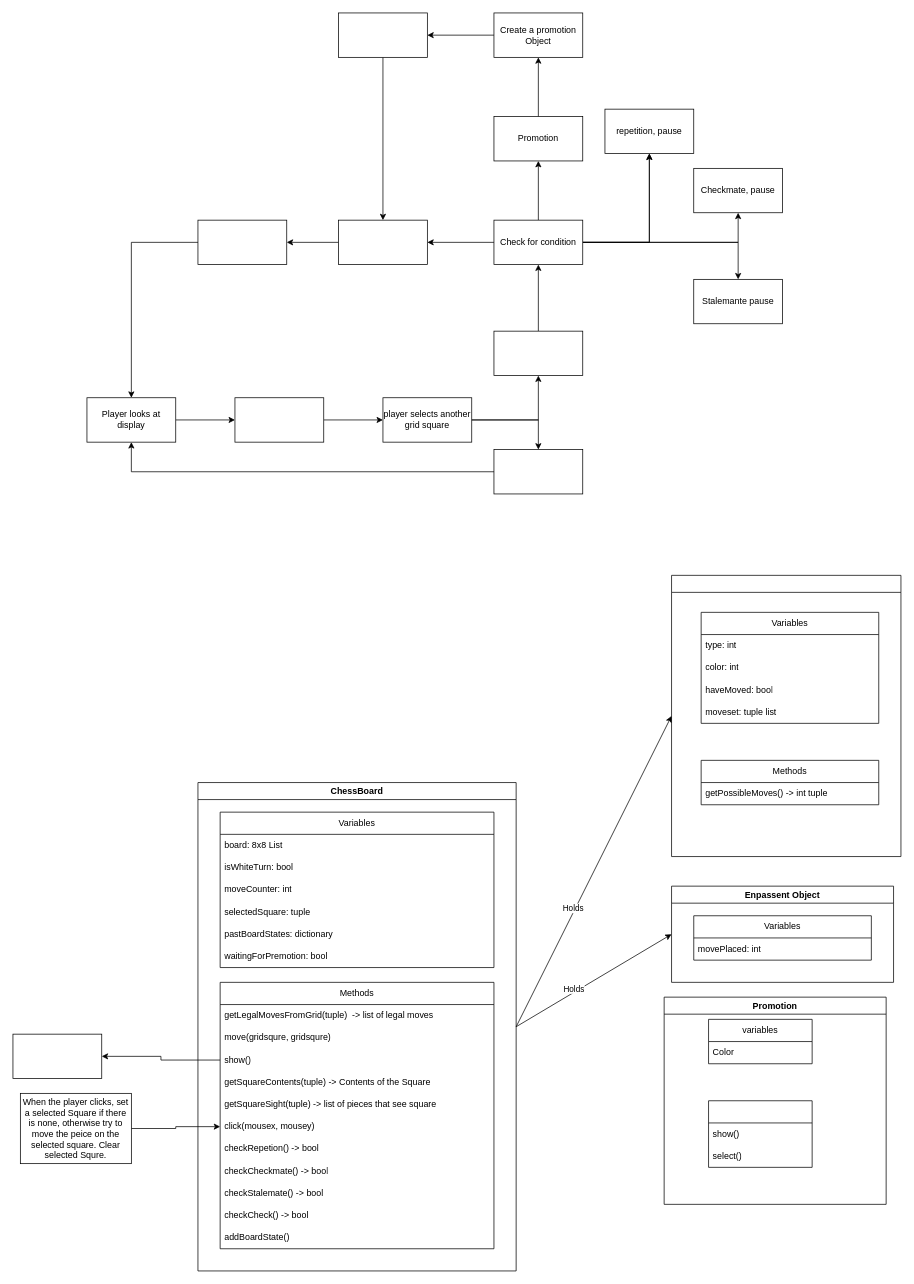
Image size: 914x1284. Some labels were removed from this diagram. The shapes that lost their labels are listed below. From the top down, each one's box as (x1, y1, x2, y2) in pixels, then its label:
(338, 12, 427, 57): player chooses peice
(197, 219, 287, 265): flip who's turn it is
(338, 219, 427, 265): record board state
(493, 330, 583, 376): If it's a legal move, move the peice
(234, 397, 324, 442): Player selects a grid with a peice on it
(493, 449, 583, 494): if it's illegal, clear selection
(671, 575, 901, 857): Piece
(12, 1033, 102, 1079): Displays to the screen
(708, 1100, 812, 1167): Method
